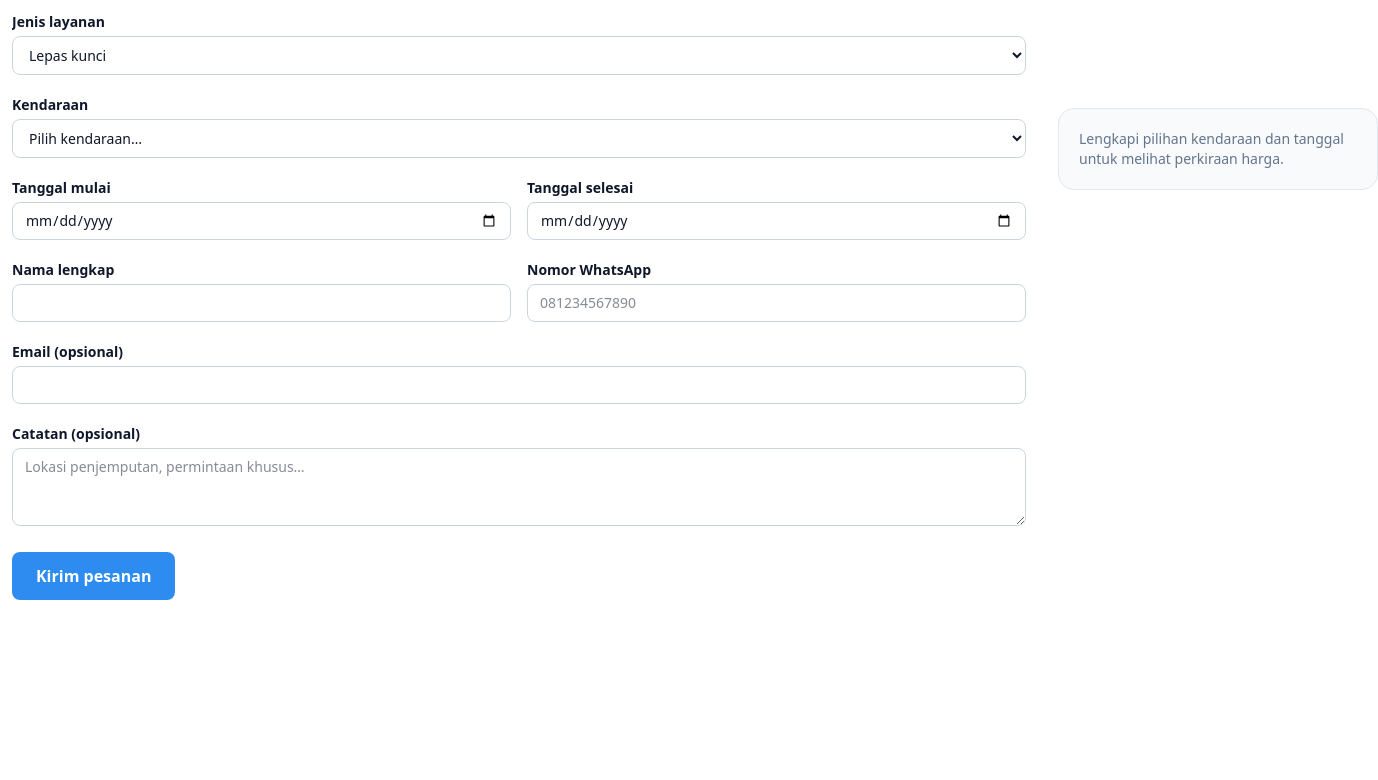
Scenario: BookingForm › menampilkan kedua kategori bila kendaraan menyediakan keduanya
This screenshot has width=1378, height=780.
Step 1. Select "Innova Zenix G" in the dropdown labelled "Kendaraan" → coordinates (519, 138), box [12,119,1026,158]
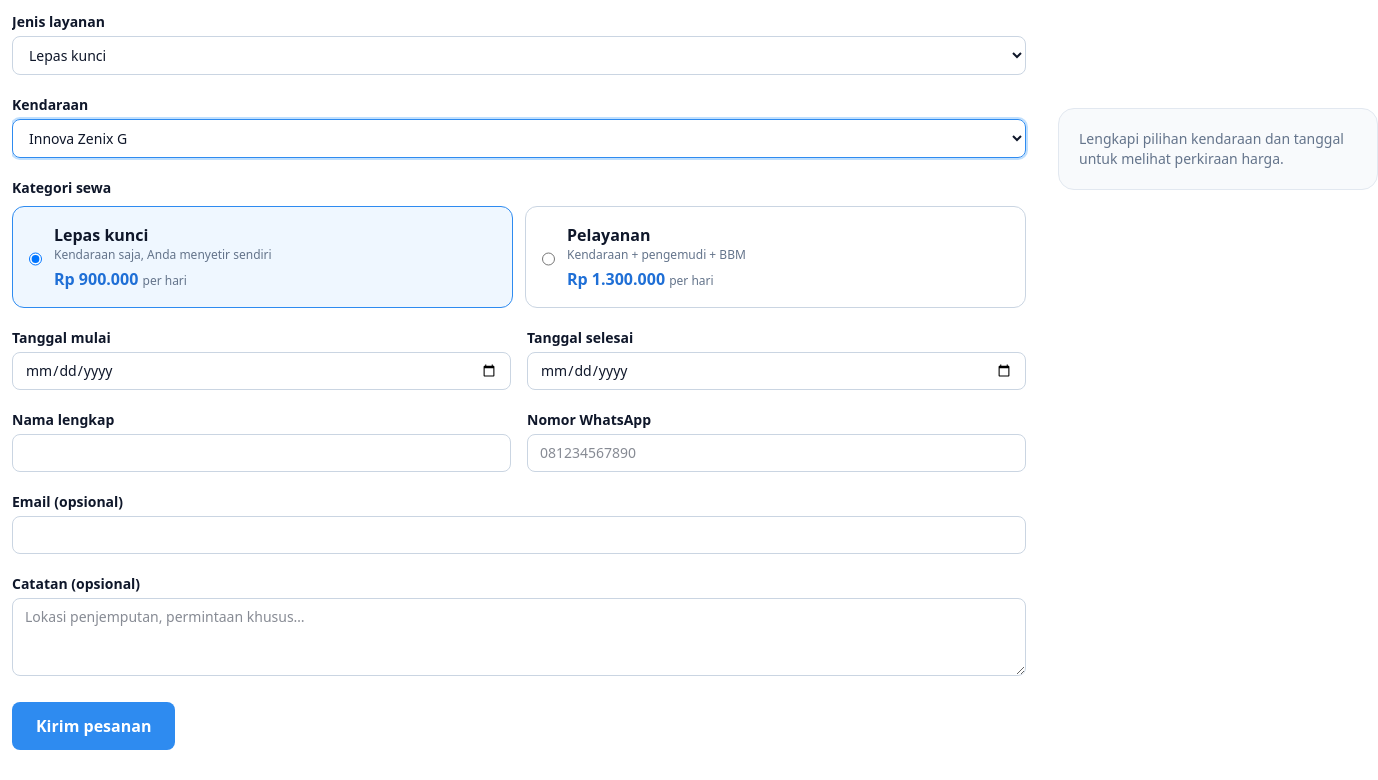
expect the radio button labelled "Lepas kunci" is shown: met, box [29,227,42,291]
expect the radio button labelled "Pelayanan Kendaraan + pengemudi + BBM Rp 1.300.000 per hari" is shown: met, box [542,227,555,291]
